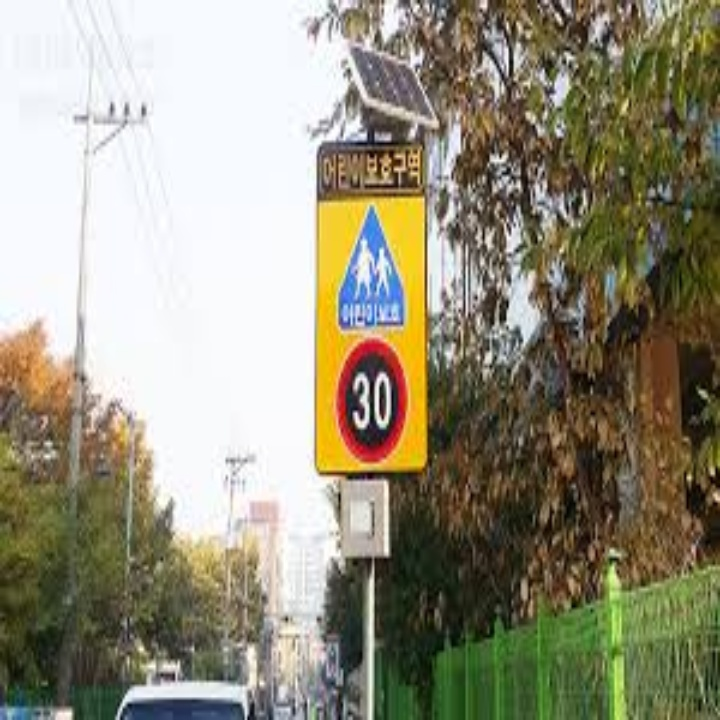child: (324, 231, 413, 303)
